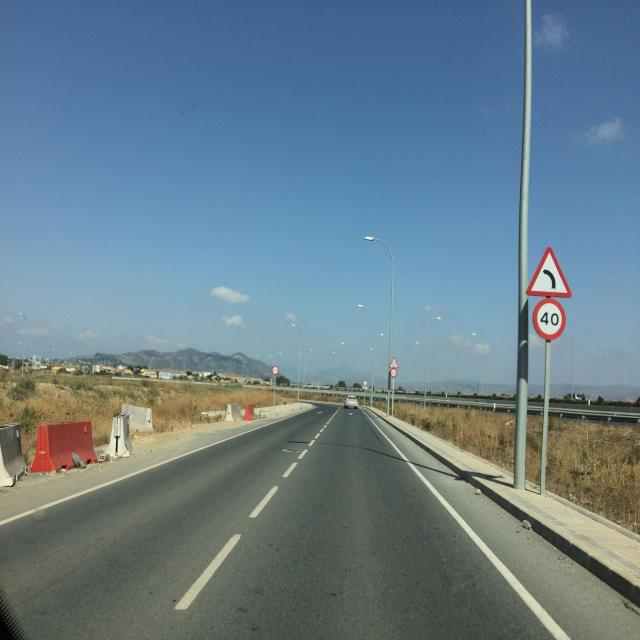car: (344, 394, 358, 409)
